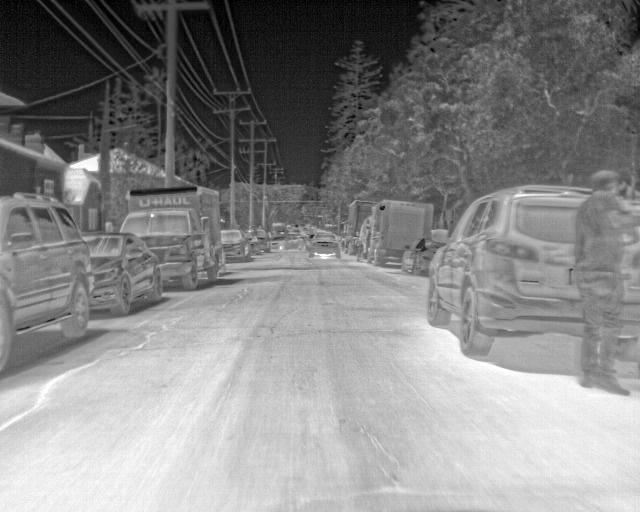bicycle: (422, 181, 583, 360), (0, 192, 94, 367), (84, 230, 166, 313), (619, 197, 639, 360), (401, 227, 450, 273), (218, 226, 250, 261), (307, 232, 342, 260), (253, 228, 271, 252)
empty: (568, 169, 631, 396)
